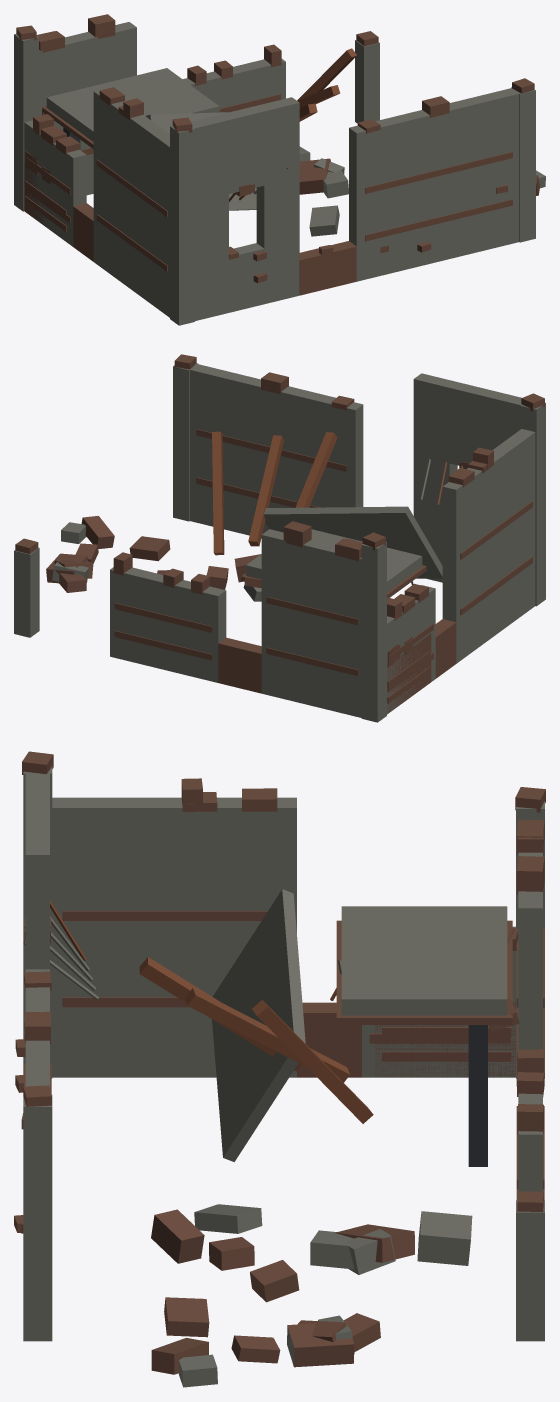
File: ruin_d.glb
3 views of the same model, one above another, from view 1: azimuth 30°, elevation 25°; view 2: azimuth 150°, elevation 25°; view 3: azimuth 270°, elevation 25° (orthographic). The views are drawn at different scales.
Parts seen in each view (by area): view 1: ruin_d; view 2: ruin_d; view 3: ruin_d.
Part boxes in pixels (left/top/right/bottom): ruin_d: left=14, top=14, right=545, bottom=325; ruin_d: left=14, top=354, right=545, bottom=722; ruin_d: left=14, top=751, right=545, bottom=1387.
Size of the model in its own units: 11.8 by 5.48 by 8.23.
